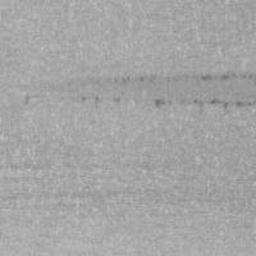Inclusion: (15, 72, 256, 110)
